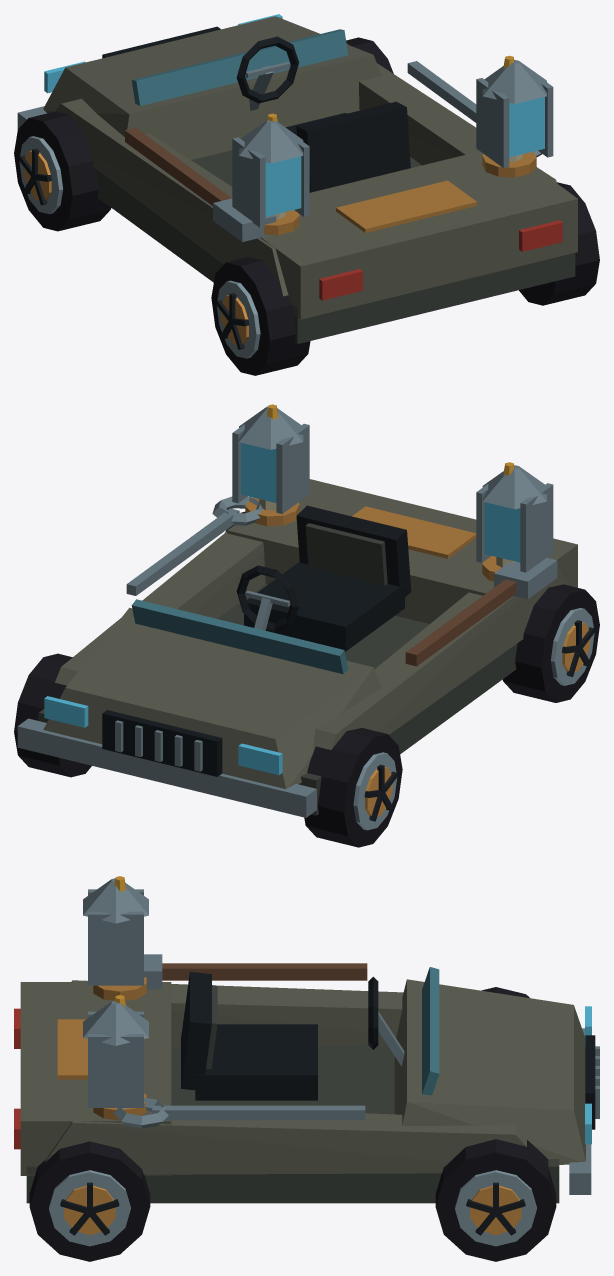
Rendered from kart.glb.
3 renders of one model, top to bottom at view 1: azimuth 30°, elevation 25°; view 2: azimuth 150°, elevation 25°; view 3: azimuth 270°, elevation 25°, orthographic. The views are drawn at different scales.
Parts seen in each view (by area): view 1: identity-sedan-sedan-road-car-body, identity-sedan-motif-lanterns, identity-sedan-driver-cockpit, wheel-front-left, wheel-rear-left, identity-sedan-motif-tools, wheel-rear-right, identity-sedan-motif-candles, wheel-front-right; view 2: identity-sedan-sedan-road-car-body, identity-sedan-driver-cockpit, identity-sedan-motif-lanterns, wheel-front-left, wheel-rear-left, identity-sedan-motif-tools, wheel-front-right, identity-sedan-motif-candles; view 3: identity-sedan-sedan-road-car-body, identity-sedan-driver-cockpit, wheel-front-right, identity-sedan-motif-lanterns, wheel-rear-right, identity-sedan-motif-tools, identity-sedan-motif-candles.
Boxes of the visible parts, x1,y1,x2,y2 form: identity-sedan-sedan-road-car-body: [17, 14, 577, 343]; identity-sedan-motif-lanterns: [232, 60, 553, 227]; identity-sedan-driver-cockpit: [236, 36, 410, 192]; wheel-front-left: [14, 111, 111, 231]; wheel-rear-left: [211, 257, 310, 375]; identity-sedan-motif-tools: [125, 61, 541, 241]; wheel-rear-right: [519, 182, 599, 305]; identity-sedan-motif-candles: [264, 55, 536, 235]; wheel-front-right: [346, 37, 393, 73]; identity-sedan-sedan-road-car-body: [17, 479, 577, 817]; identity-sedan-driver-cockpit: [236, 505, 411, 651]; identity-sedan-motif-lanterns: [232, 406, 553, 572]; wheel-front-left: [304, 728, 402, 847]; wheel-rear-left: [502, 584, 599, 702]; identity-sedan-motif-tools: [126, 496, 557, 666]; wheel-front-right: [14, 653, 91, 777]; identity-sedan-motif-candles: [245, 404, 515, 581]; identity-sedan-sedan-road-car-body: [14, 967, 599, 1203]; identity-sedan-driver-cockpit: [181, 972, 404, 1100]; wheel-front-right: [435, 1139, 556, 1261]; identity-sedan-motif-lanterns: [83, 878, 148, 1107]; wheel-rear-right: [29, 1141, 150, 1261]; identity-sedan-motif-tools: [113, 954, 367, 1128]; identity-sedan-motif-candles: [93, 876, 146, 1120].
Bounding box in the file's own units: 2.07 × 1.33 × 2.92.
